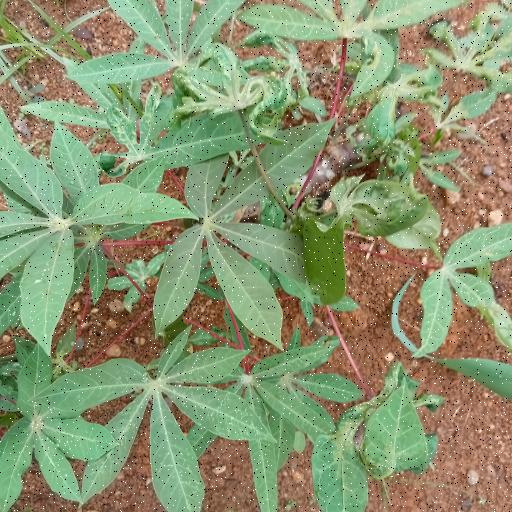Cassava_Mosaic: (49, 333, 244, 512), (158, 136, 322, 342), (312, 369, 433, 512), (245, 1, 481, 73), (422, 230, 511, 362), (100, 82, 164, 170)
